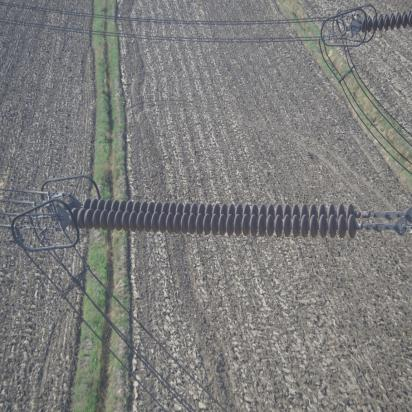insulator: (66, 194, 394, 241), (357, 8, 412, 39)
